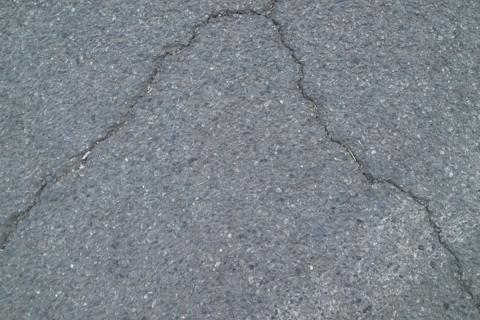crack: (247, 7, 474, 269), (12, 10, 210, 245)
